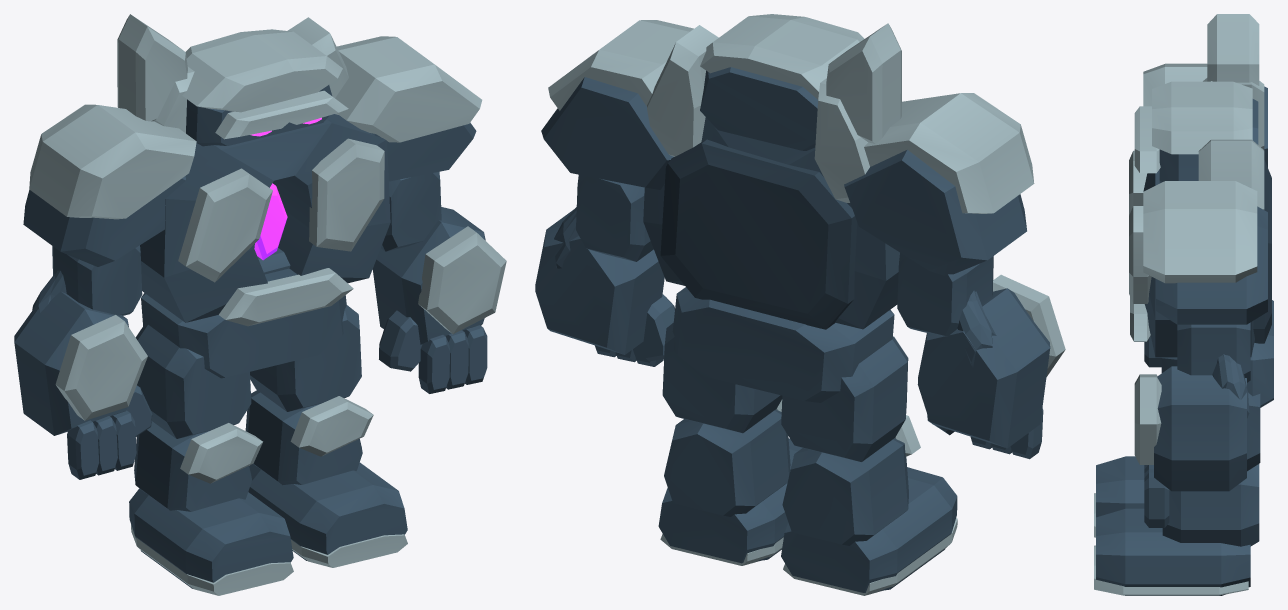
File: FROST_HEX_GOLEM_Parts.glb
3 renders of one model, left to right at view 1: azimuth 30°, elevation 25°; view 2: azimuth 150°, elevation 25°; view 3: azimuth 270°, elevation 25°, orthographic. The views are drawn at different scales.
Visible parts, largest first — view 1: Fracture_Torso, Fracture_Arm.R, Fracture_Arm.L, Fracture_Leg.R, Fracture_Leg.L, Fracture_Head; view 2: Fracture_Torso, Fracture_Arm.R, Fracture_Arm.L, Fracture_Leg.R, Fracture_Leg.L, Fracture_Head; view 3: Fracture_Arm.L, Fracture_Leg.L, Fracture_Torso, Fracture_Head, Fracture_Leg.R, Fracture_Arm.R.
Part boxes in pixels (x1,y1,x2,y2): Fracture_Torso: (117, 14, 390, 378); Fracture_Arm.R: (14, 104, 196, 479); Fracture_Arm.L: (335, 36, 506, 393); Fracture_Leg.R: (129, 325, 293, 595); Fracture_Leg.L: (245, 305, 407, 567); Fracture_Head: (182, 29, 348, 146); Fracture_Torso: (643, 23, 901, 402); Fracture_Arm.R: (844, 93, 1065, 459); Fracture_Arm.L: (535, 20, 693, 366); Fracture_Leg.R: (781, 336, 957, 595); Fracture_Leg.L: (658, 323, 802, 565); Fracture_Head: (700, 14, 864, 150); Fracture_Arm.L: (1134, 181, 1267, 527); Fracture_Leg.L: (1094, 392, 1260, 595); Fracture_Torso: (1129, 14, 1273, 407); Fracture_Head: (1134, 81, 1258, 183); Fracture_Leg.R: (1094, 456, 1144, 537); Fracture_Arm.R: (1143, 63, 1267, 367).
Bounding box in the file's own units: 2.52 × 2.82 × 0.93.
